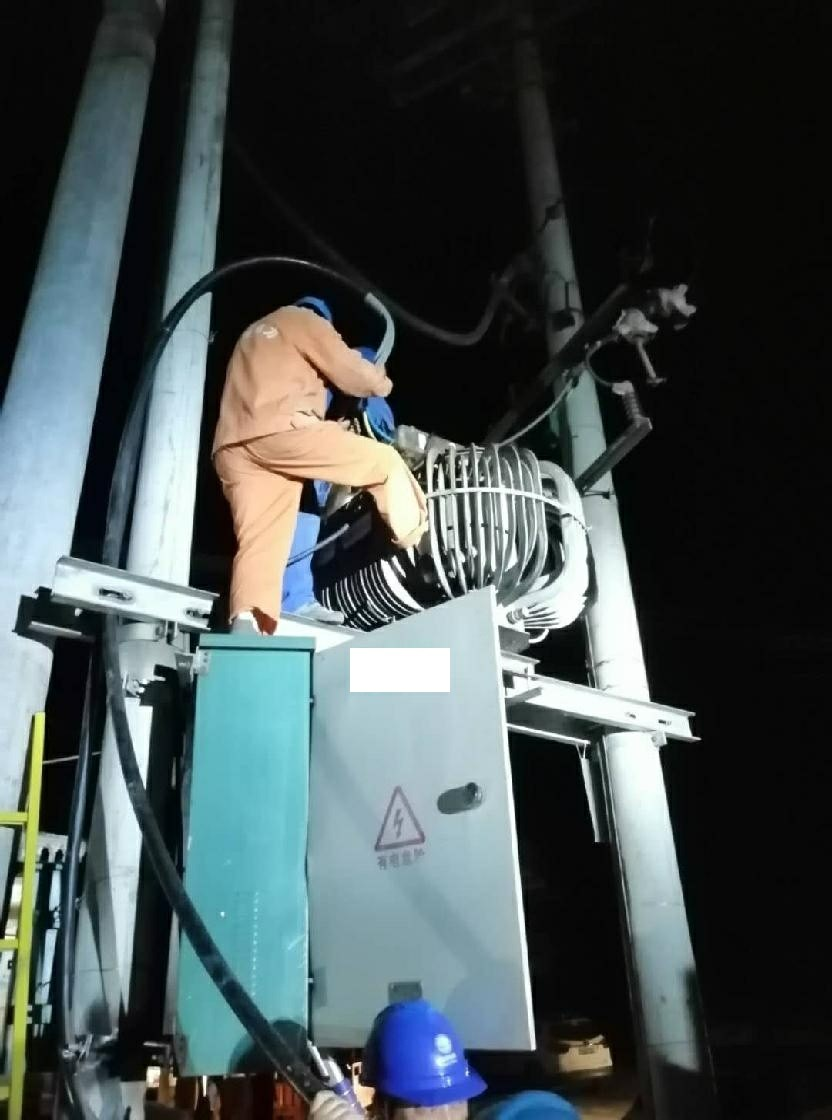hat: (359, 995, 485, 1120)
